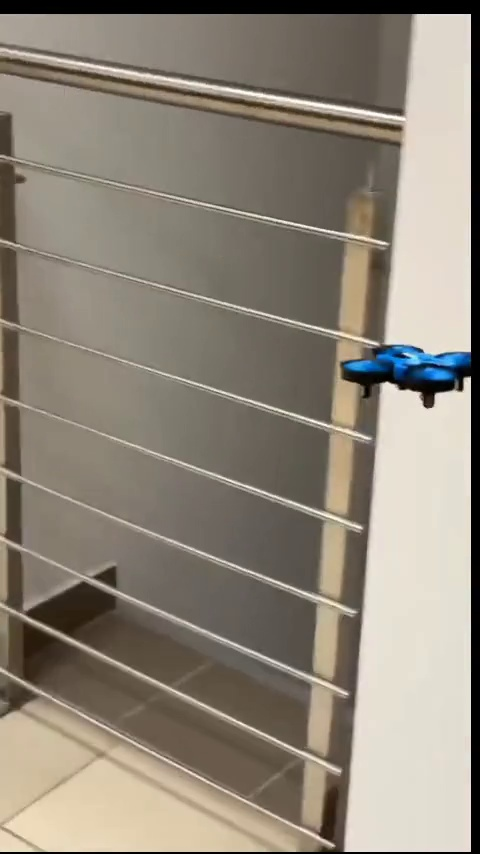drone: (337, 342, 470, 400)
